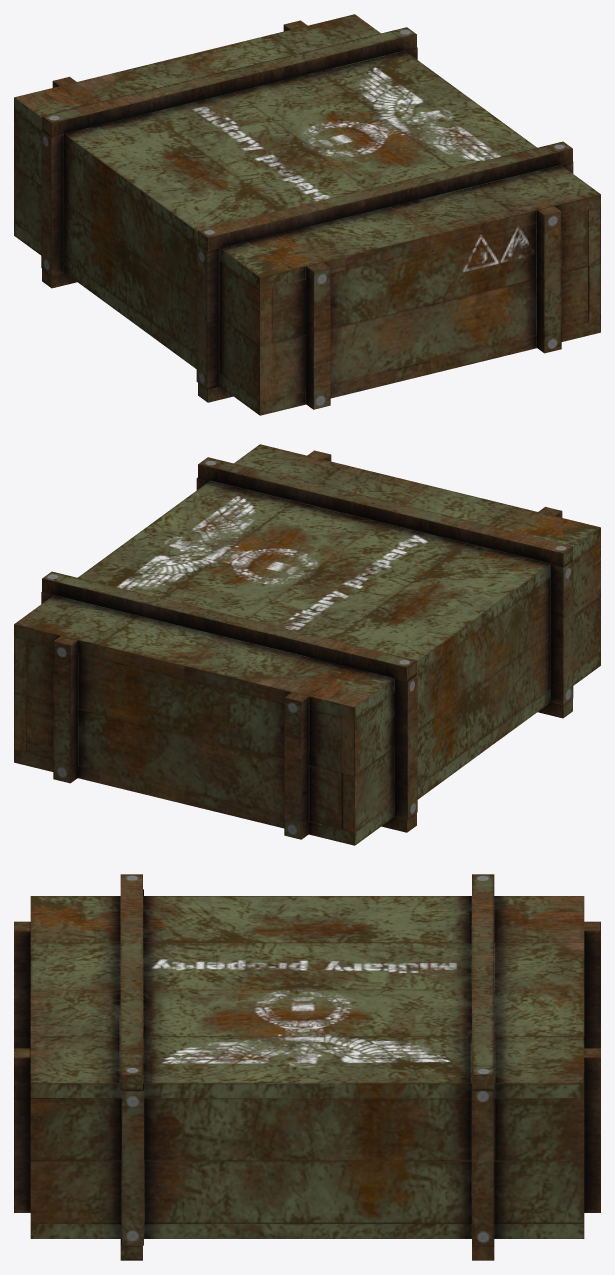
The model's file is military_supply_box.glb.
The picture shows the model from 3 angles, top to bottom: view 1: azimuth 30°, elevation 25°; view 2: azimuth 150°, elevation 25°; view 3: azimuth 270°, elevation 25°; orthographic projection. The views are drawn at different scales.
Visible parts, largest first — view 1: Cube.009, Cube.004; view 2: Cube.009, Cube.004; view 3: Cube.009, Cube.004.
Part boxes in pixels (<box>): Cube.009: <box>14,14,600,415</box>; Cube.004: <box>41,20,573,409</box>; Cube.009: <box>14,444,600,845</box>; Cube.004: <box>41,450,573,839</box>; Cube.009: <box>30,896,584,1238</box>; Cube.004: <box>14,874,600,1260</box>.
Size of the model in its own units: 172 by 74 by 212.
1 material, 1 textured.
